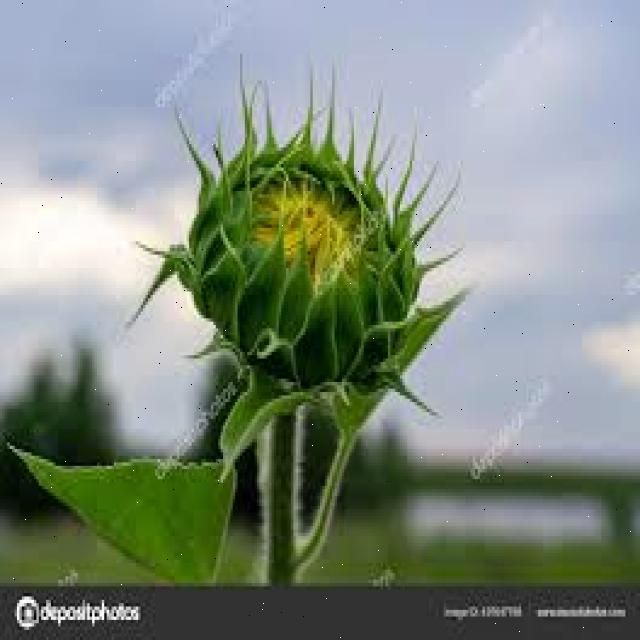Unbloomed: (164, 97, 474, 421)
